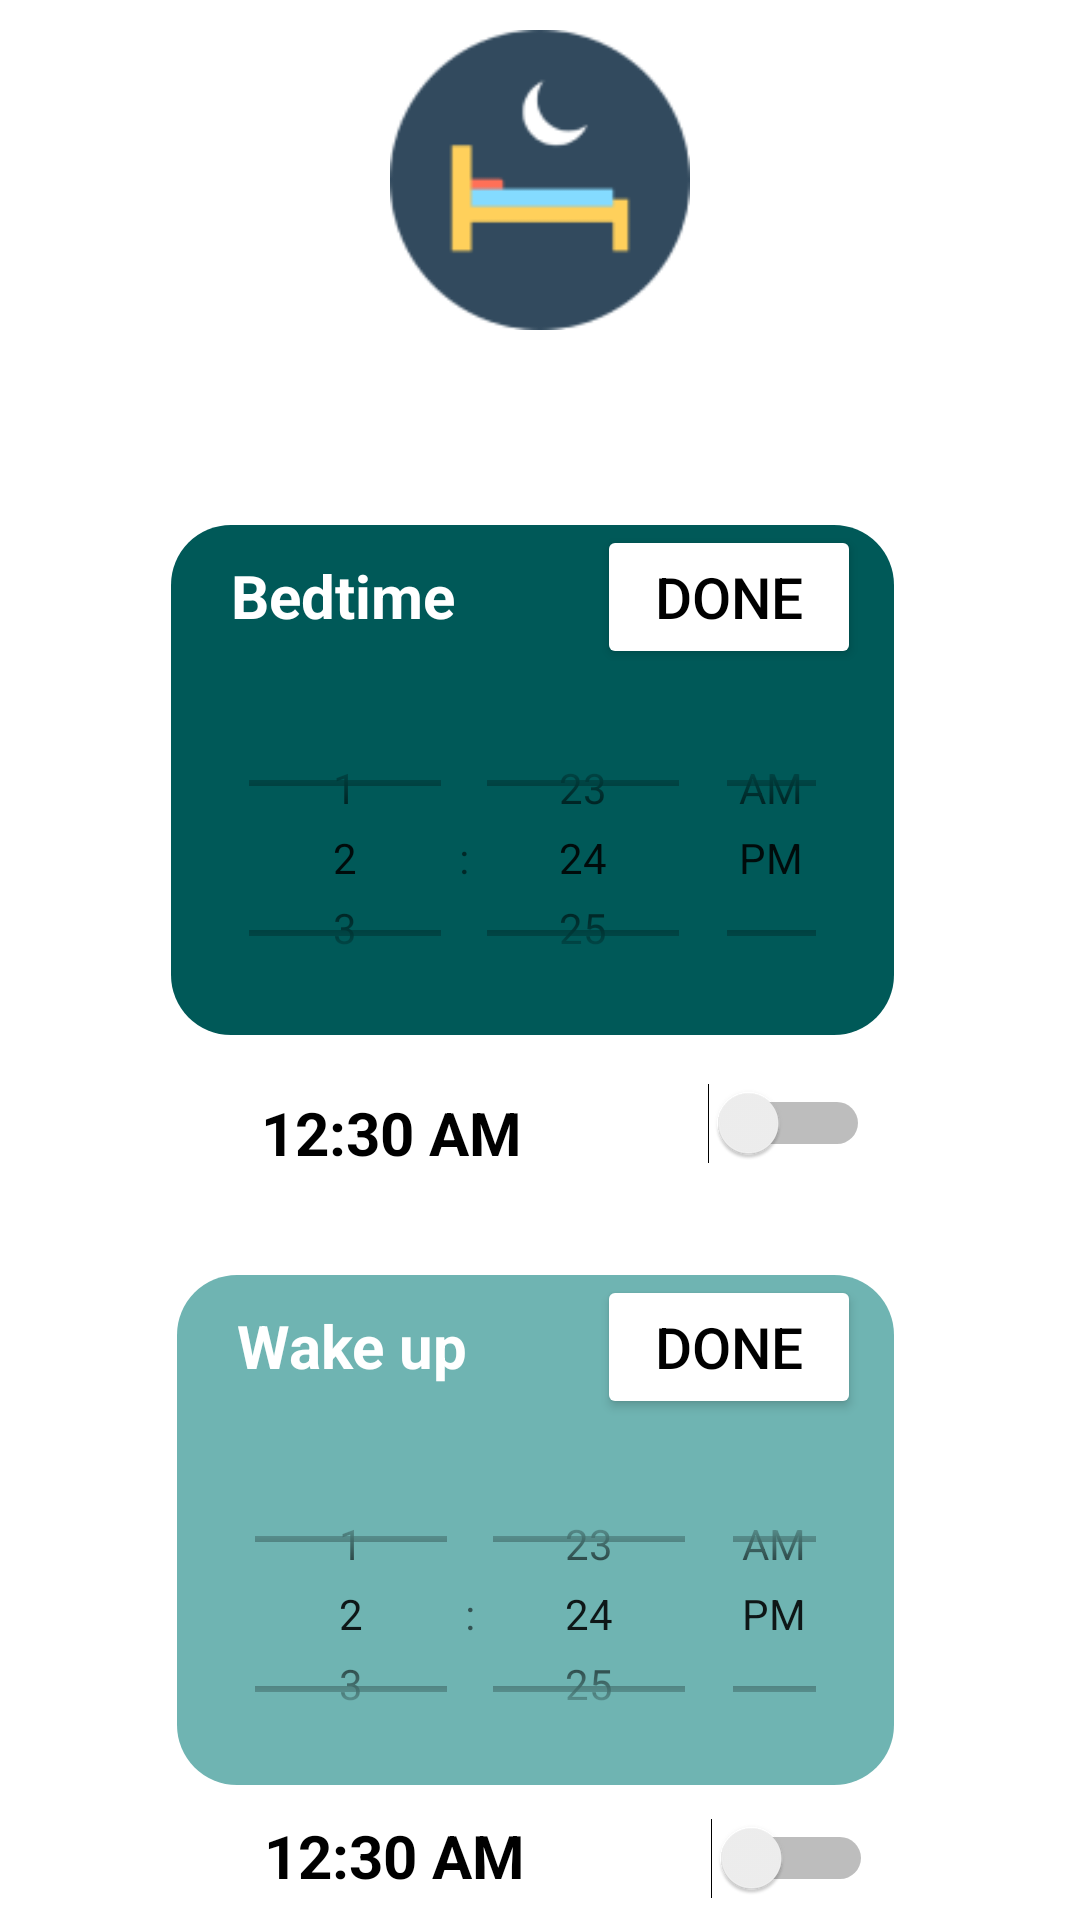

Point at icon controls on the screen. Image size 1080×1920, points as (x=x, y=y).
sleepimg: (x=540, y=180)
